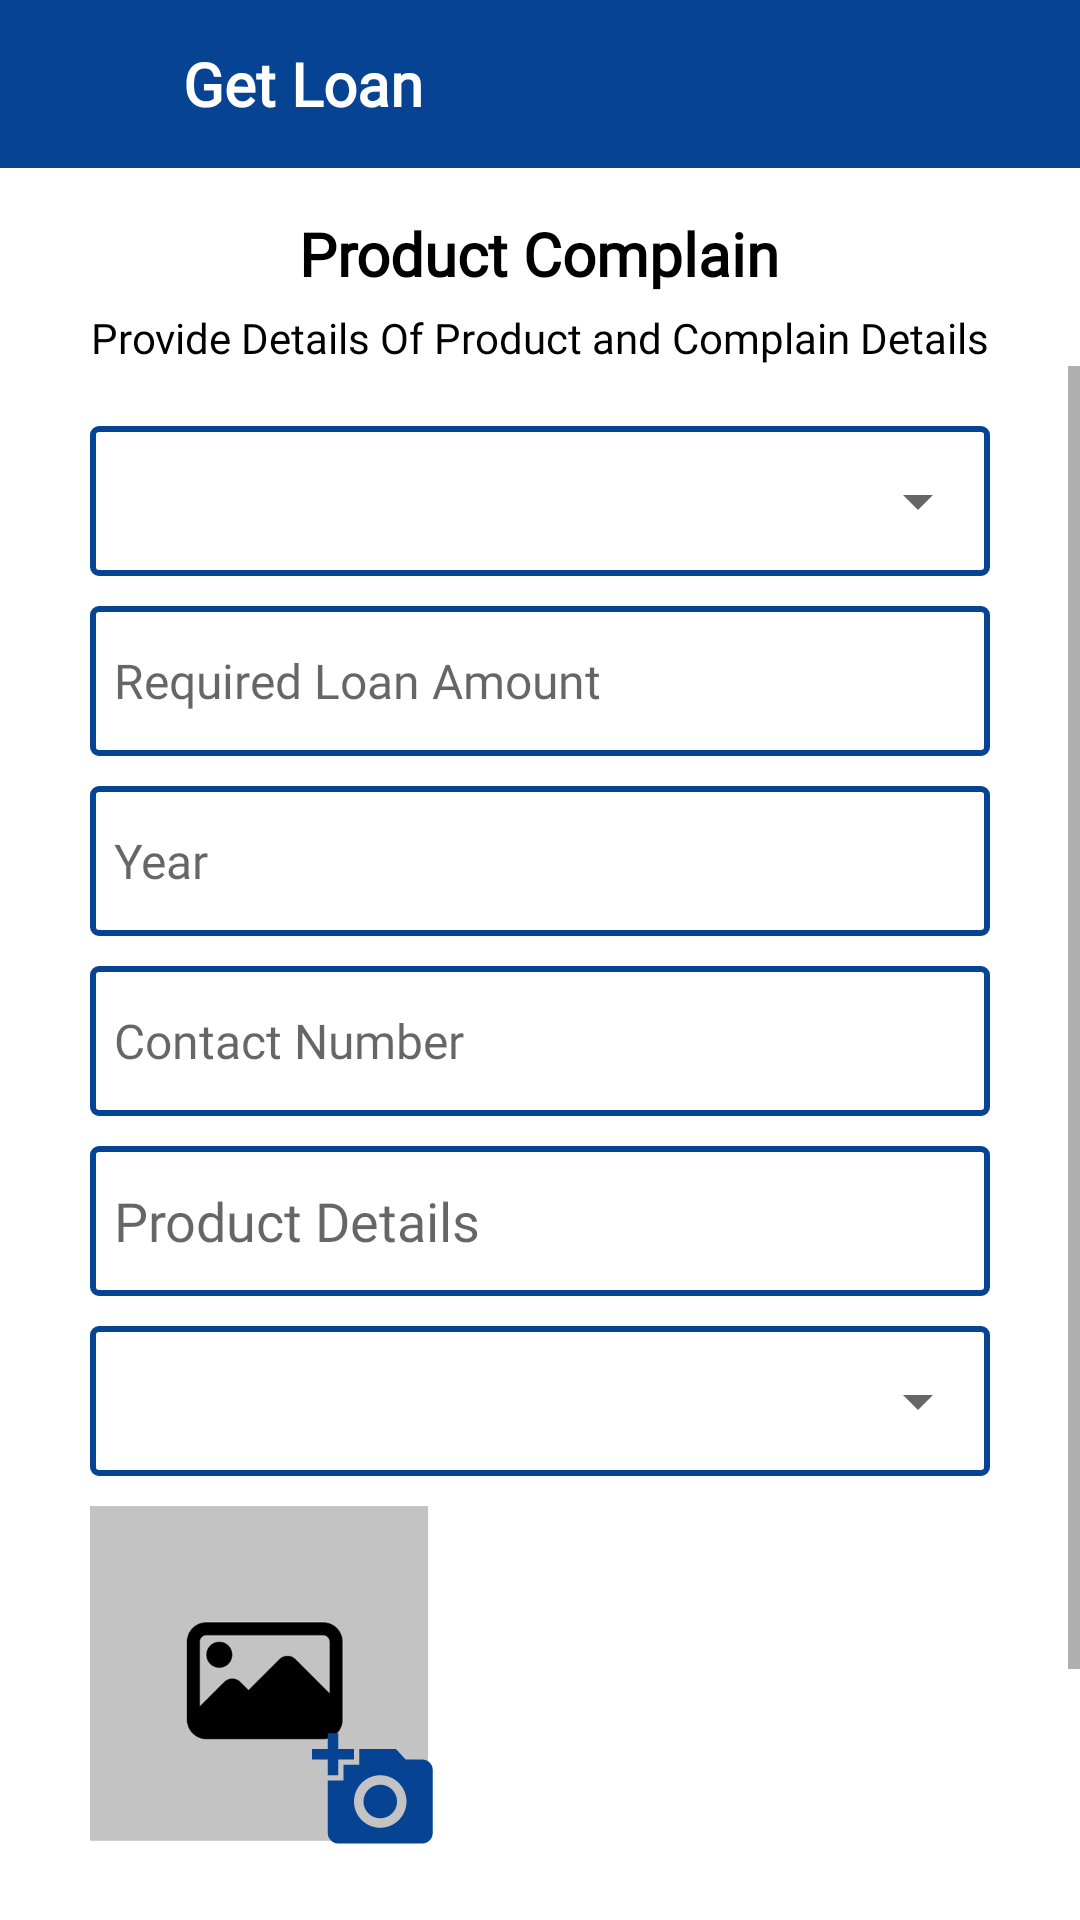

Named icons in this screenshot (1080px×1920px) and their centers, point (x, y):
add photo: point (375, 1791)
